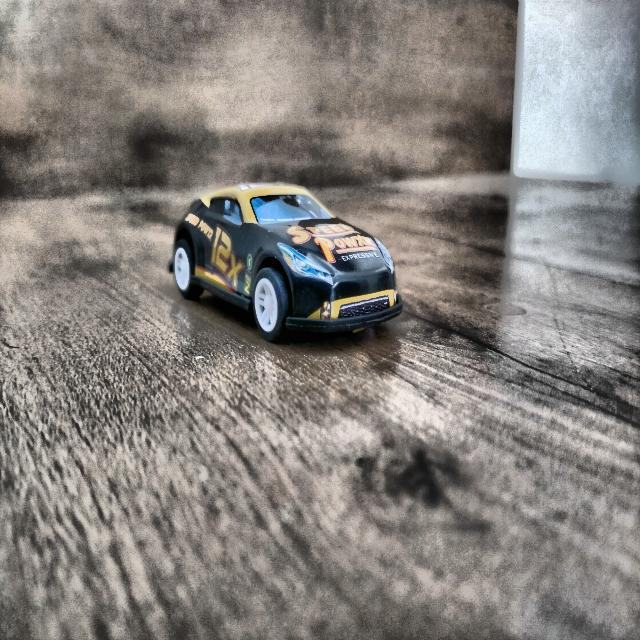Car: (166, 178, 404, 340)
